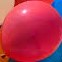Balloon: (1, 1, 61, 61)
